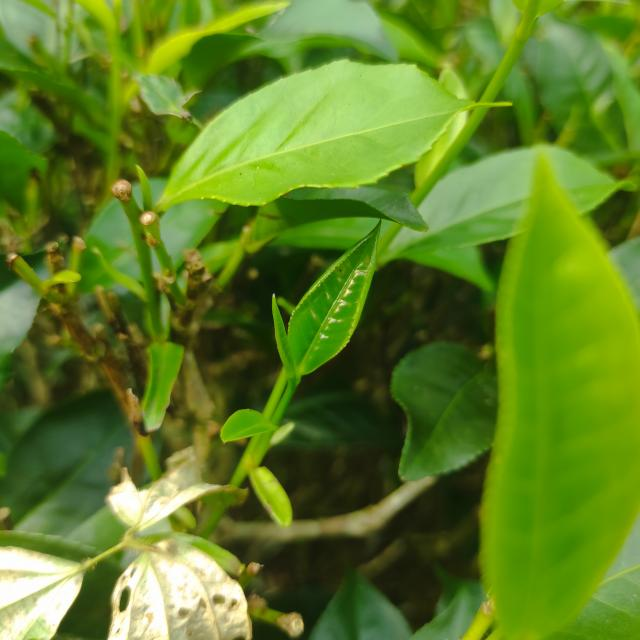unopened_leaf: (264, 289, 306, 392), (132, 159, 160, 216)
